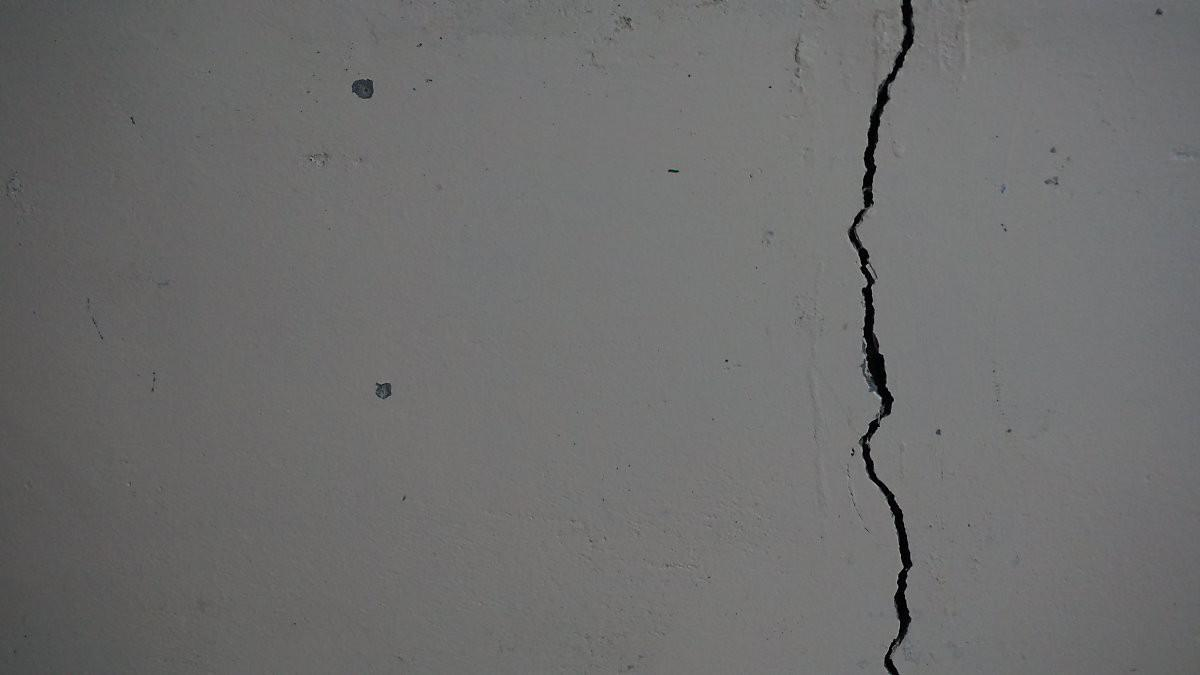crack: (847, 0, 914, 675)
